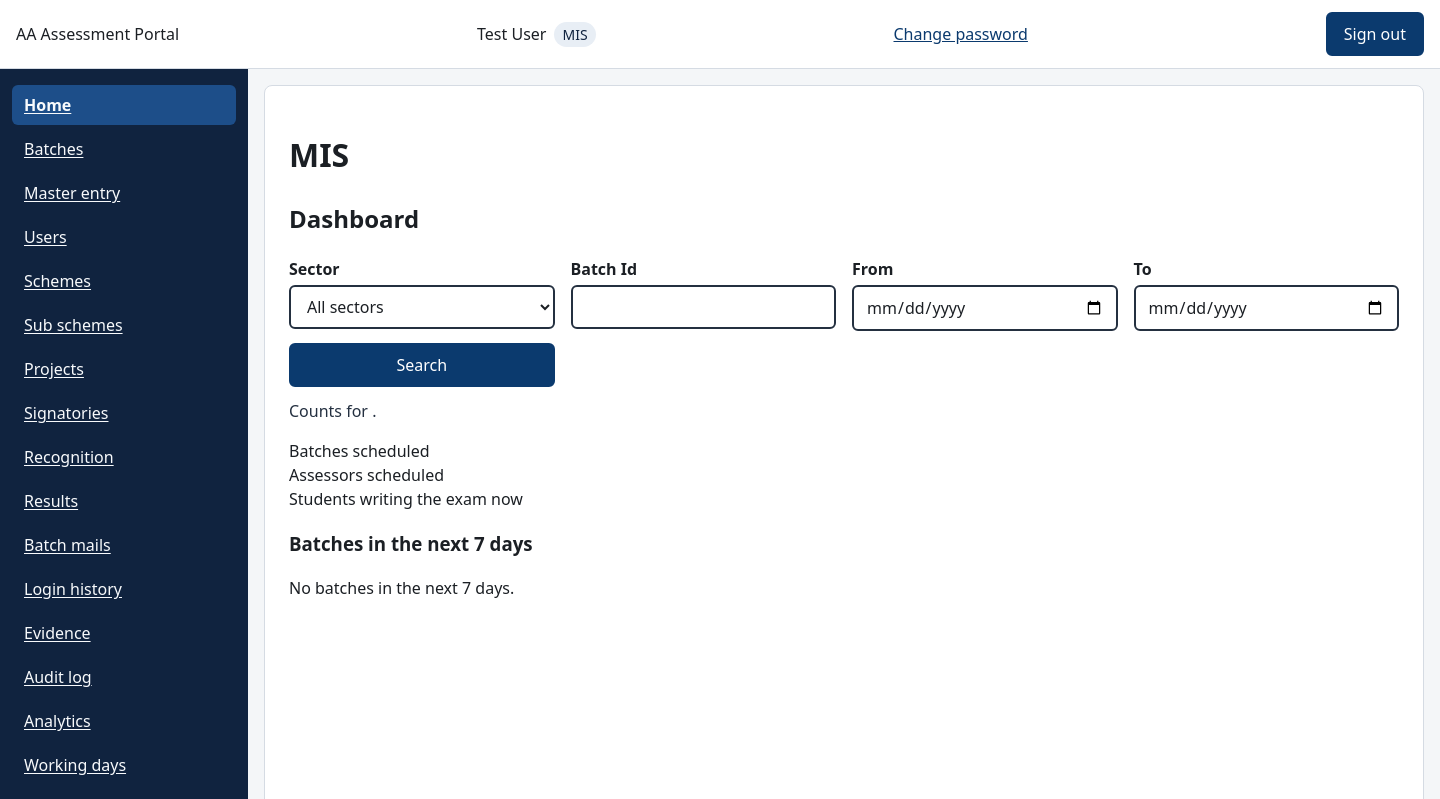
Test: lets a signed-in user change their password from the header link
This screenshot has width=1440, height=799.
Click the link "Change password".
click(961, 34)  # box [894,22,1028,46]
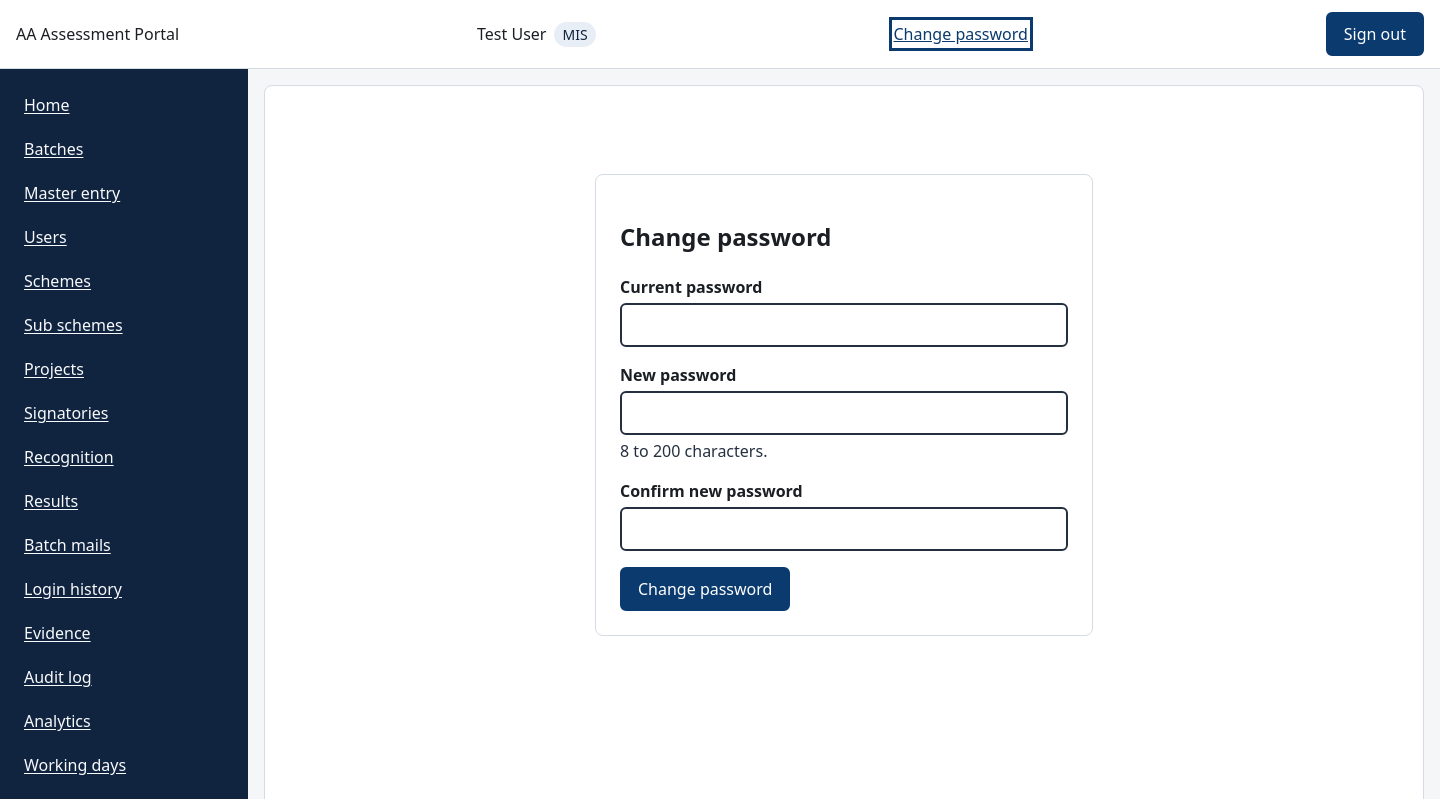
Now the heading "Change password" is shown, box [620,220,832,253]
Type "old-password-1" into the password field labelled "Current password".
click(844, 325); type("old-password-1")  # box [620,303,1068,347]
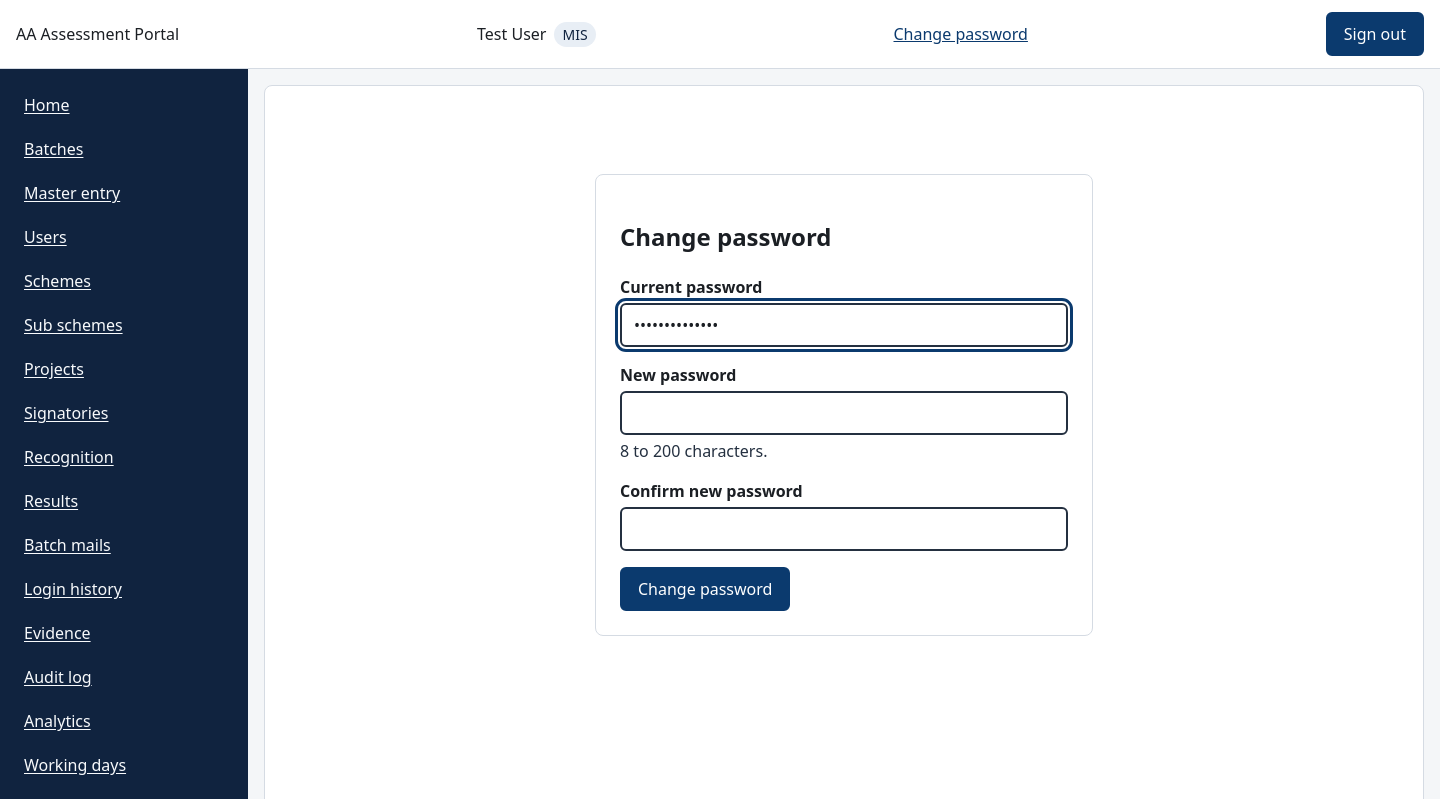
Type "new-password-2" into the password field labelled "New password".
click(844, 413); type("new-password-2")  # box [620,391,1068,435]
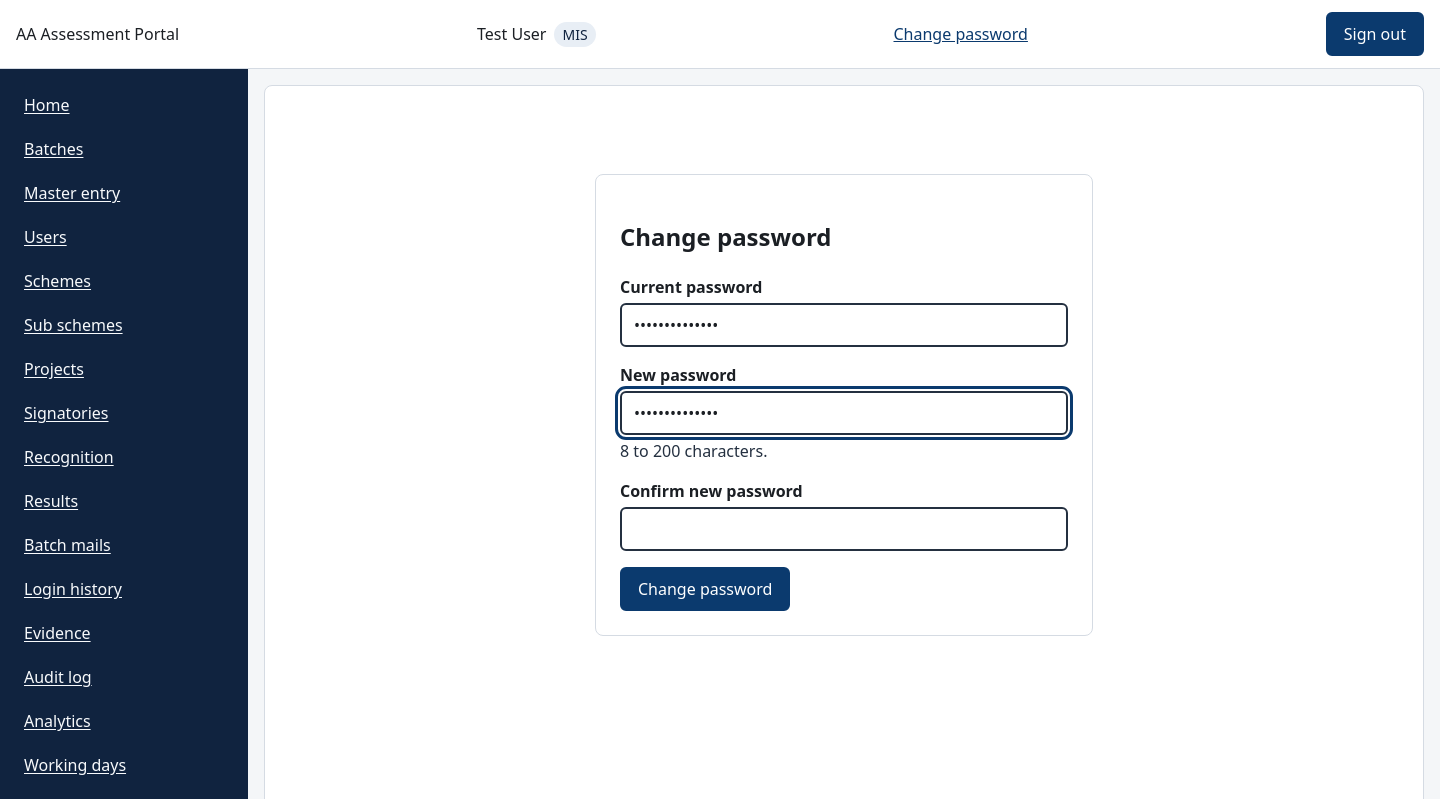
Type "new-password-2" into the password field labelled "Confirm new password".
click(844, 529); type("new-password-2")  # box [620,507,1068,551]
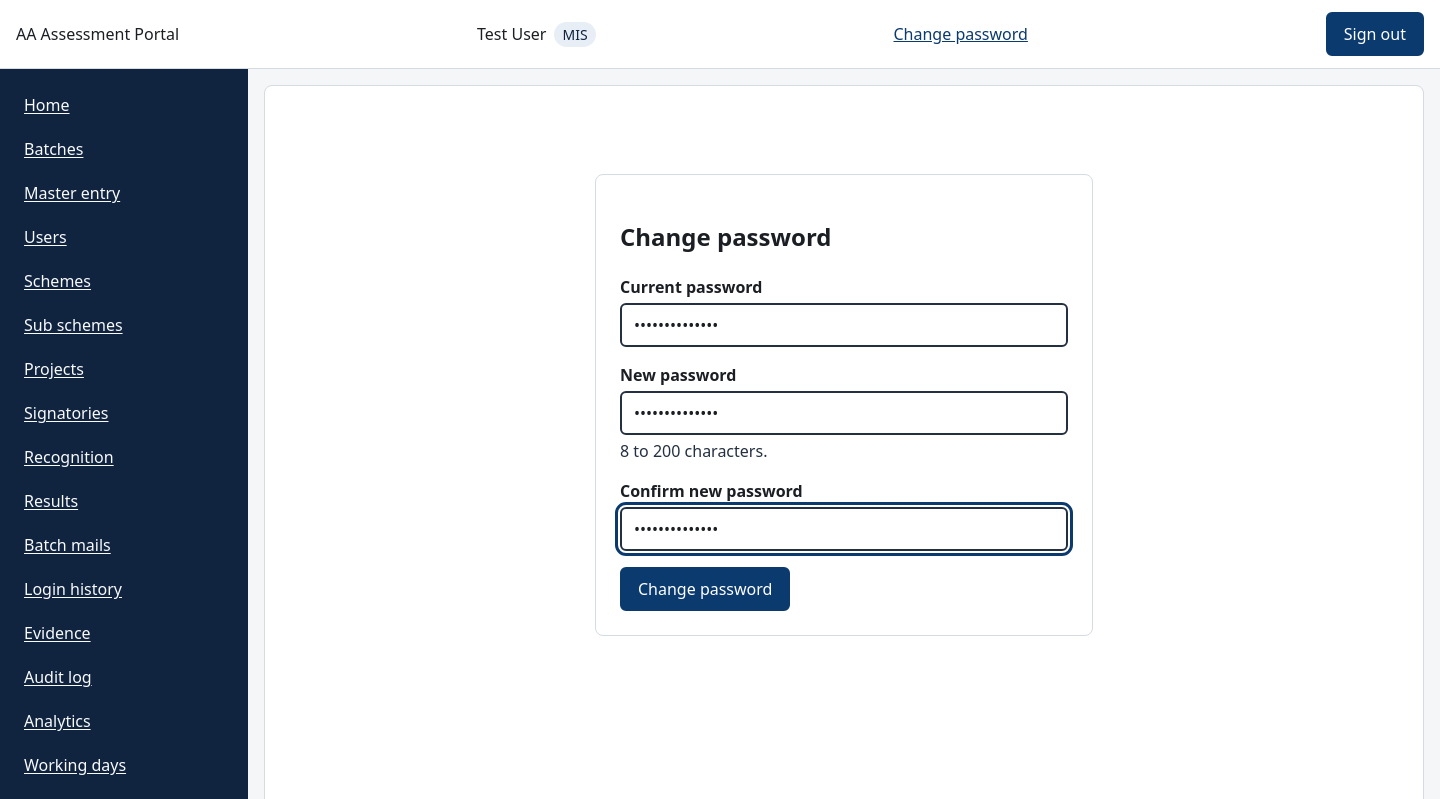
Click the button "Change password".
click(705, 589)  # box [620,567,790,611]
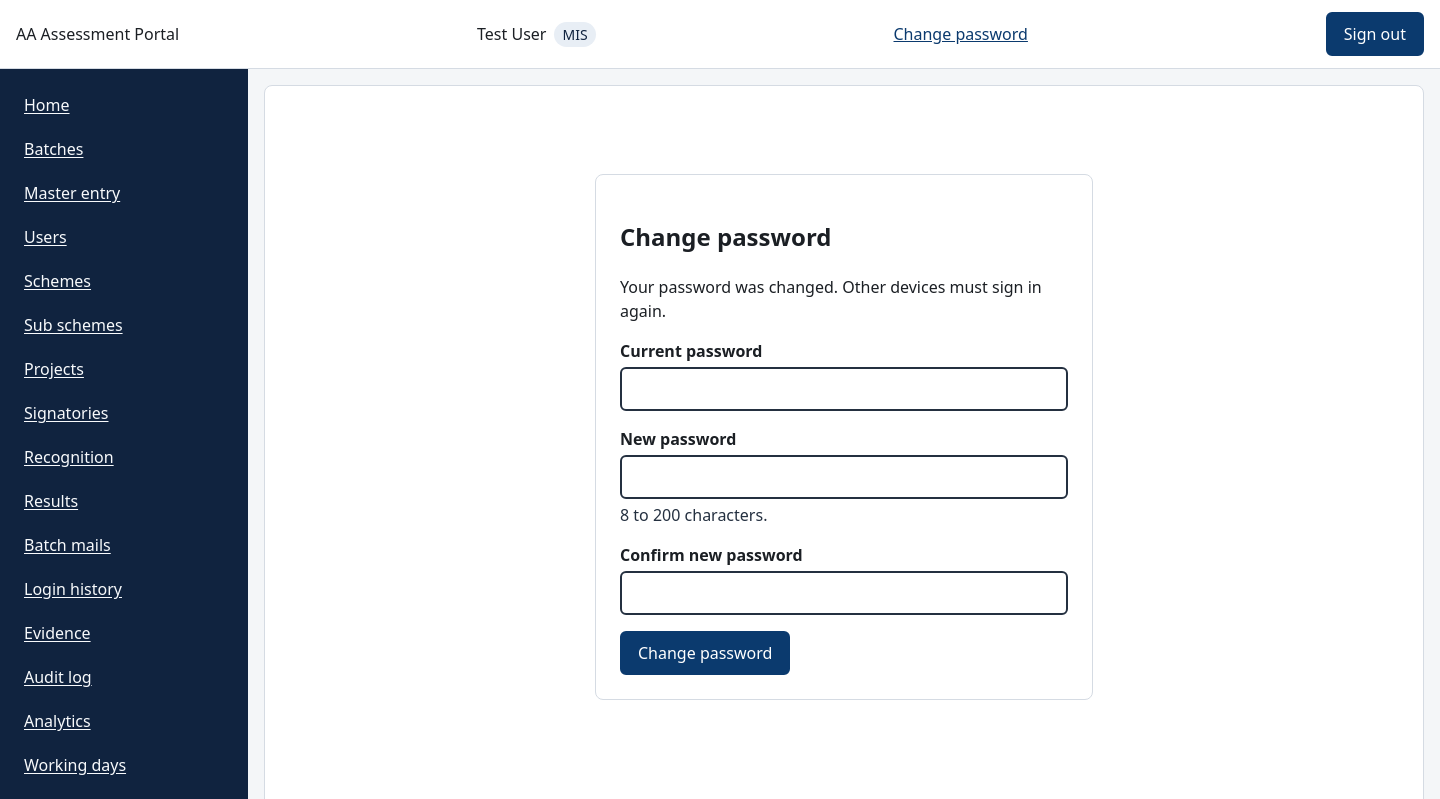
Now the message shows "Your password was changed", box [620,276,1042,322]
Now the password field labelled "Current password" is empty, box [620,367,1068,411]
